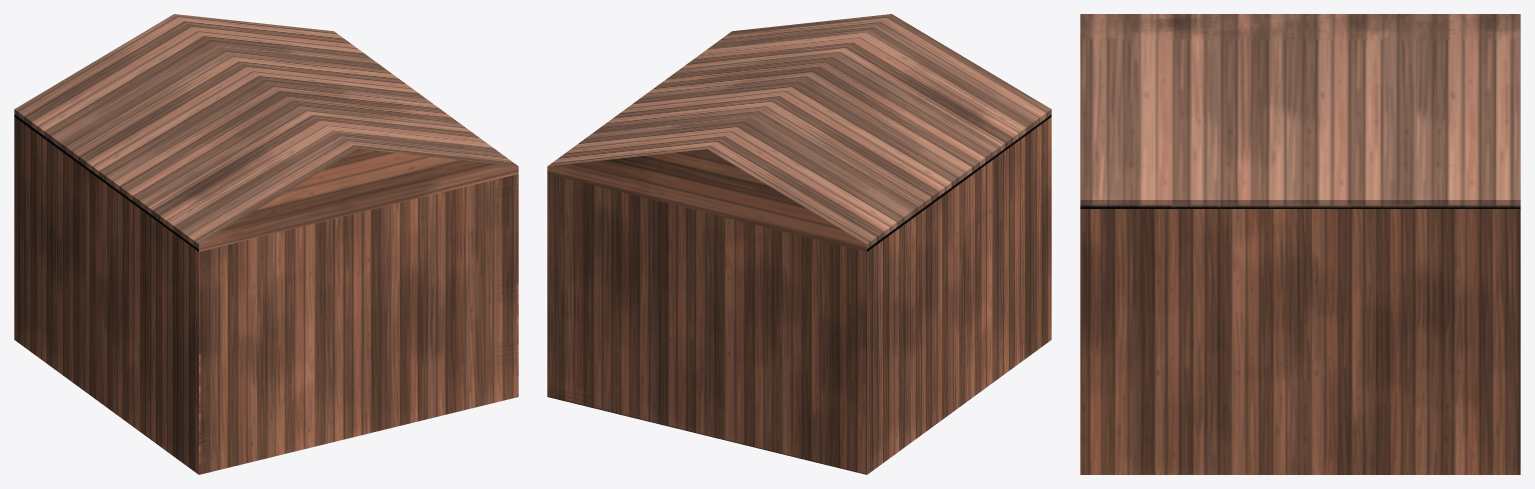
File: maison_bois.FBX
3 renders of one model, left to right at view 1: azimuth 30°, elevation 25°; view 2: azimuth 150°, elevation 25°; view 3: azimuth 270°, elevation 25°, orthographic. The views are drawn at different scales.
Parts seen in each view (by area): view 1: Box001; view 2: Box001; view 3: Box001.
Part boxes in pixels (x1,y1,x2,y2): Box001: [14, 14, 518, 474]; Box001: [547, 14, 1051, 474]; Box001: [1080, 14, 1520, 474].
Bounding box in the file's own units: 1656 × 1421 × 1656.
